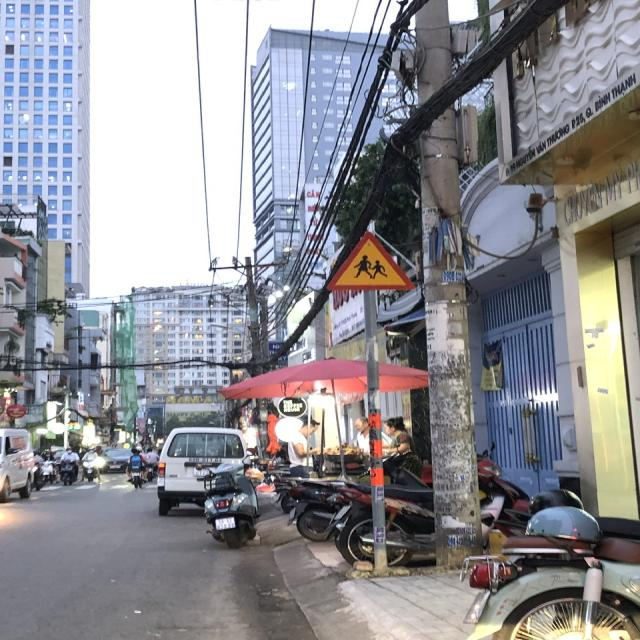Bien bao tre em: (320, 223, 428, 295)
